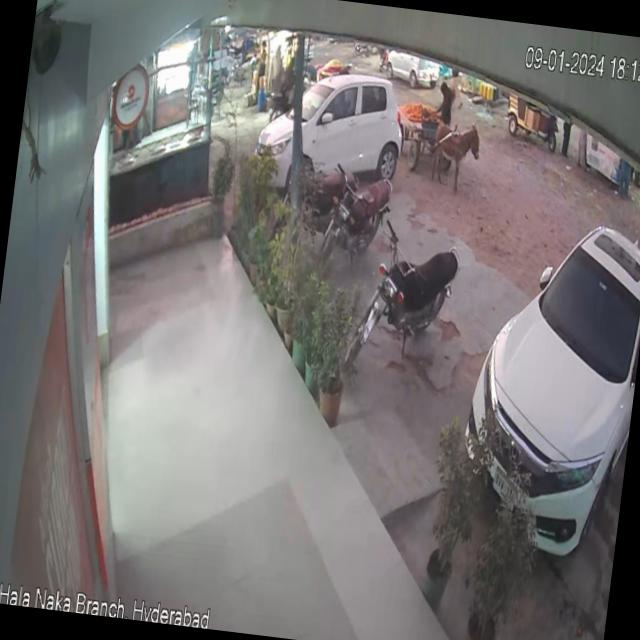Car: (447, 166, 640, 575), (232, 48, 414, 190)
Motorcycle: (342, 204, 475, 384), (323, 162, 401, 264)
